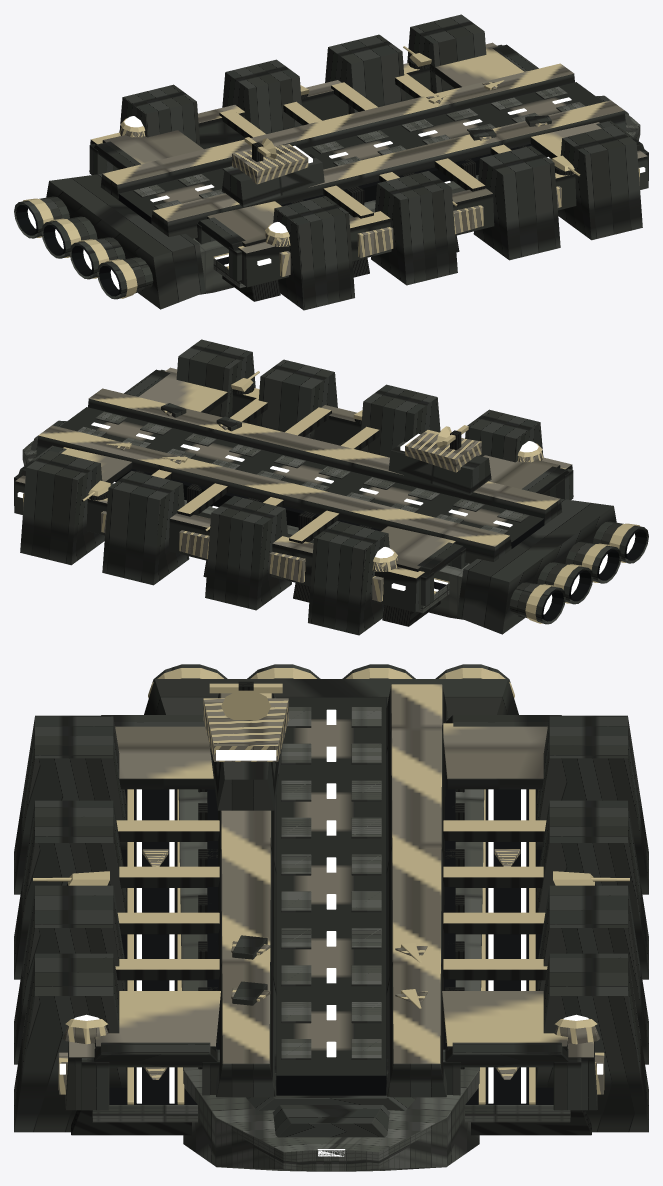
Rendered from carrier.glb.
3 renders of one model, top to bottom at view 1: azimuth 30°, elevation 25°; view 2: azimuth 150°, elevation 25°; view 3: azimuth 270°, elevation 25°, orthographic. The views are drawn at different scales.
Visible parts, largest first — view 1: hull_body, engine_block, sensor_island, shield_domes, weapon_turrets; view 2: hull_body, engine_block, sensor_island, shield_domes, weapon_turrets; view 3: hull_body, engine_block, sensor_island, shield_domes, weapon_turrets.
Boxes of the visible parts, x1,y1,x2,y2 form: hull_body: (89, 14, 648, 310); engine_block: (14, 174, 205, 309); sensor_island: (222, 137, 324, 206); shield_domes: (119, 116, 290, 246); weapon_turrets: (300, 46, 581, 206); hull_body: (14, 339, 573, 635); engine_block: (457, 499, 648, 634); sensor_island: (388, 425, 491, 495); shield_domes: (372, 441, 543, 571); weapon_turrets: (81, 371, 362, 531); hull_body: (14, 684, 648, 1171); engine_block: (144, 664, 518, 719); sensor_island: (203, 681, 288, 810); shield_domes: (62, 1014, 600, 1044); weapon_turrets: (33, 871, 629, 885).
Bounding box in the file's own units: 55 × 11.5 × 31.99.
1 material, 1 textured.
